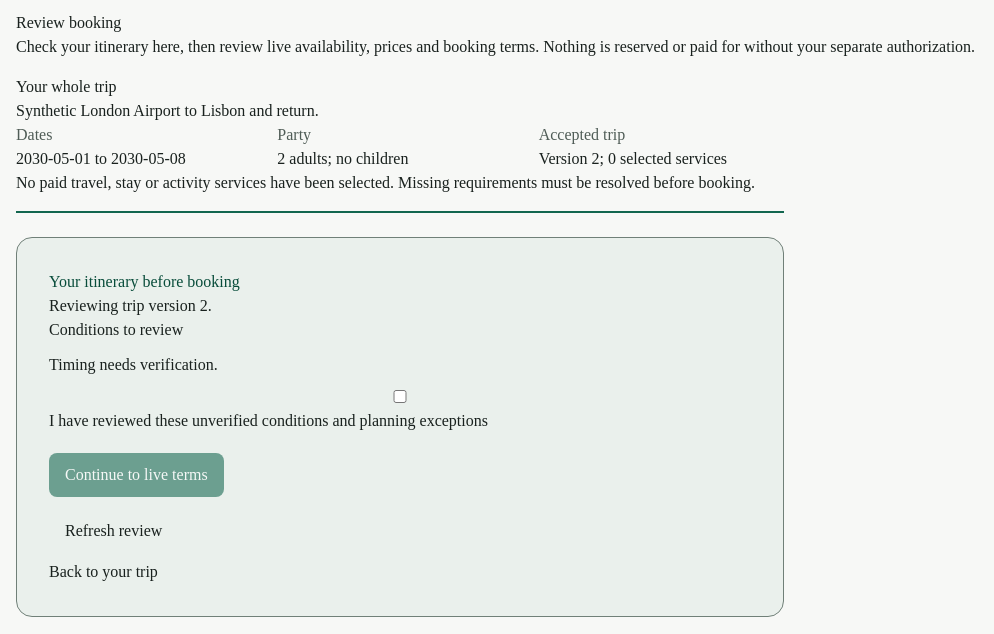
it: does not change a draft on entry and requires actual acknowledgement before live review
Expected: the button "Continue to live terms" is disabled, x1=49 y1=453 x2=224 y2=497
What coordinates should you click on to do the following:
click the checkbox
I would click on:
 (400, 396)
Its box is x1=49 y1=390 x2=751 y2=403.
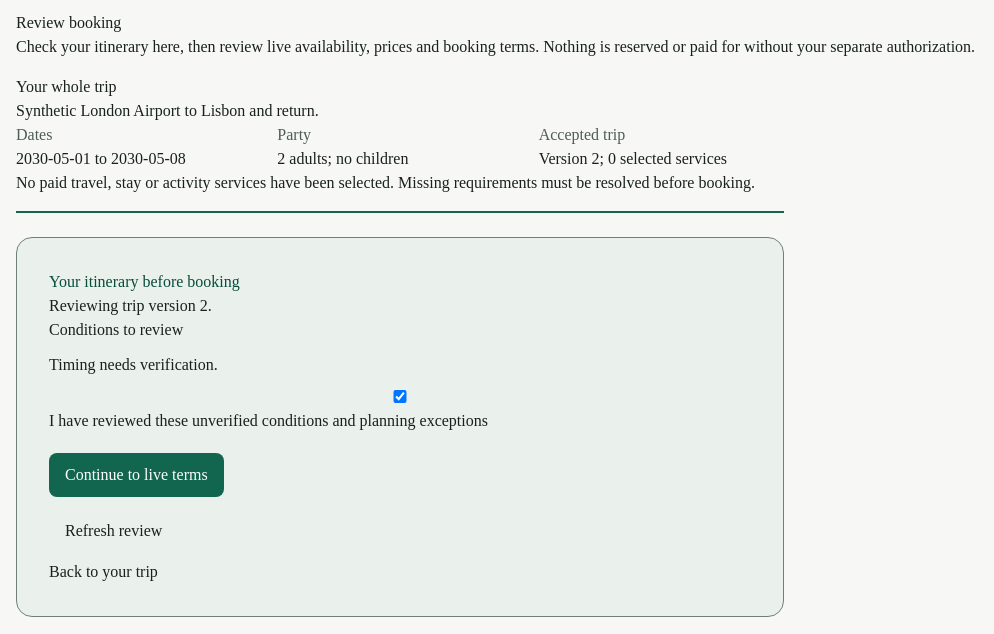
What coordinates should you click on to do the following:
click the button "Continue to live terms"
I would click on:
 (136, 475)
Its box is x1=49 y1=453 x2=224 y2=497.
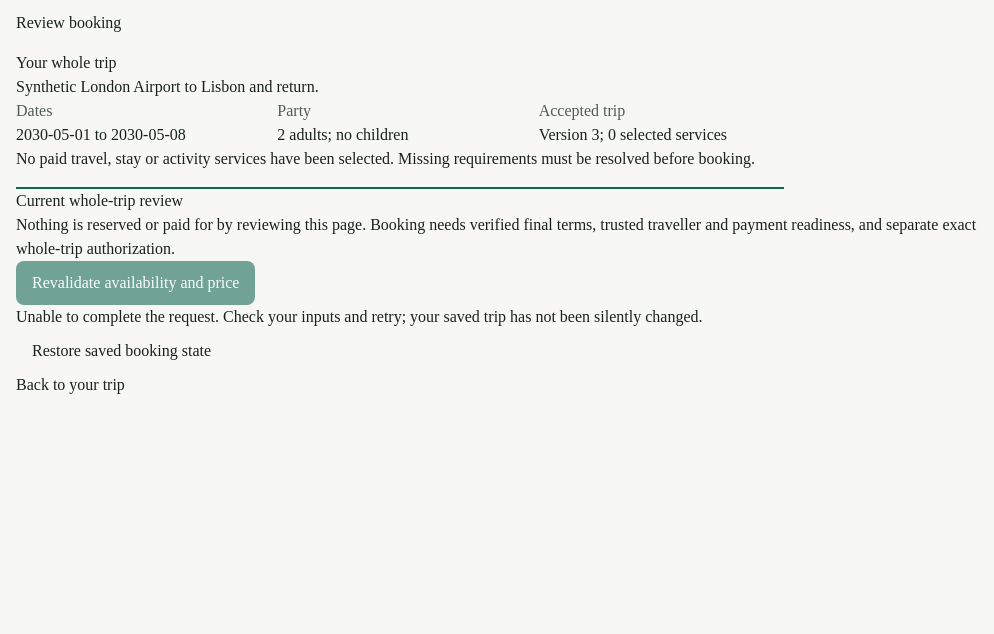
Result: the button "Revalidate availability and price" is shown at x1=16 y1=261 x2=256 y2=305
